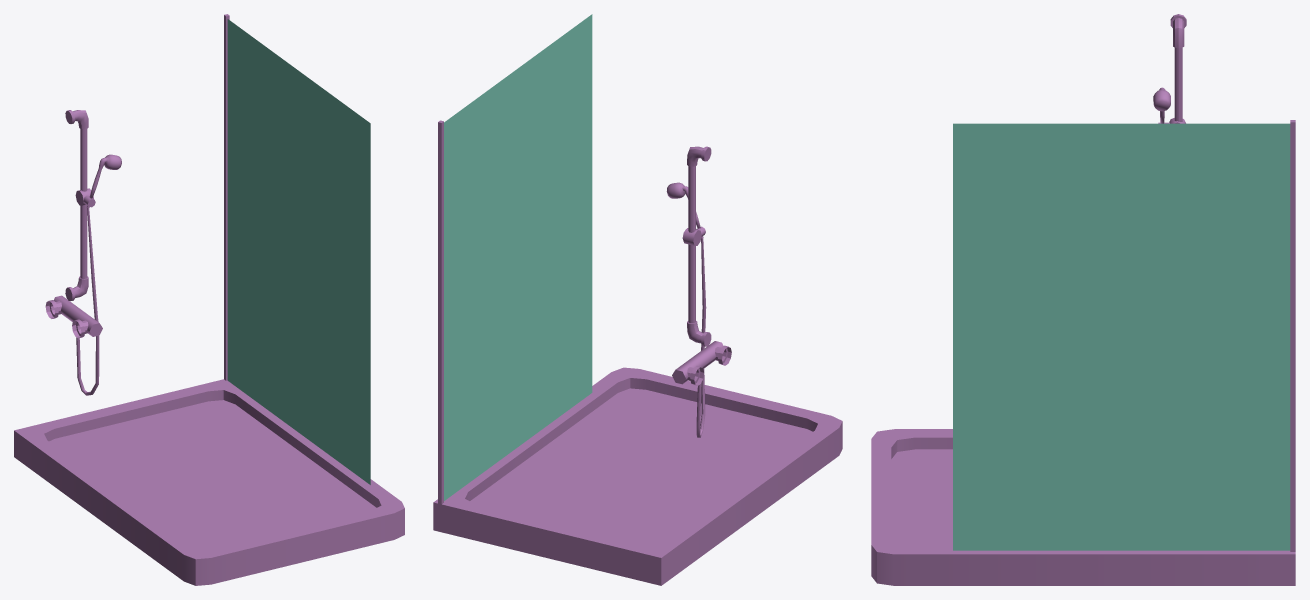
File: Douche.fbx
The picture shows the model from 3 angles, left to right: view 1: azimuth 30°, elevation 25°; view 2: azimuth 150°, elevation 25°; view 3: azimuth 270°, elevation 25°; orthographic projection. The views are drawn at different scales.
Visible parts, largest first — view 1: Douche; view 2: Douche; view 3: Douche.
Boxes of the visible parts, x1,y1,x2,y2 form: Douche: (14,14,404,585); Douche: (433,14,842,585); Douche: (871,14,1295,585).
Size of the model in its own units: 97.84 by 168 by 140.
